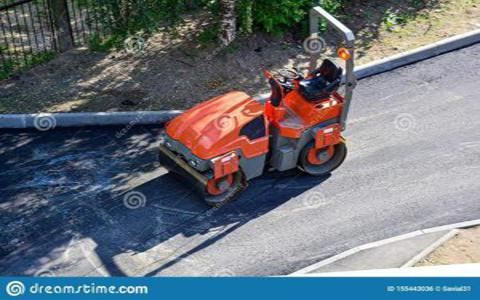Proper road: (366, 78, 475, 219)
